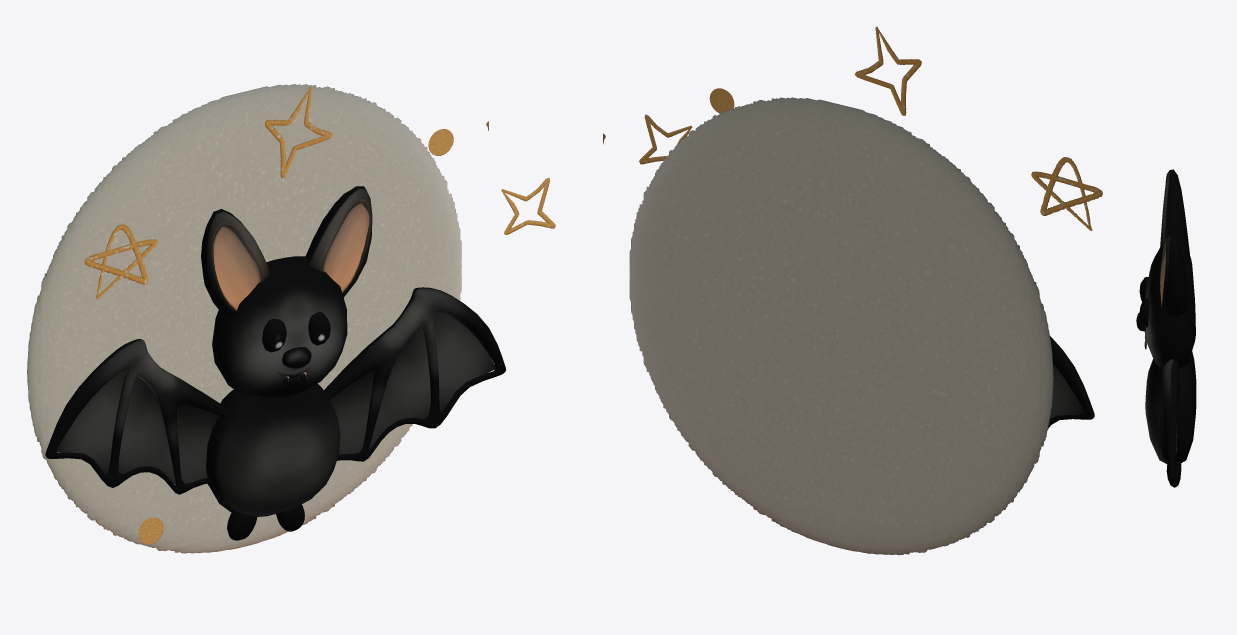
File: morcego.glb
The picture shows the model from 3 angles, left to right: view 1: azimuth 30°, elevation 25°; view 2: azimuth 150°, elevation 25°; view 3: azimuth 270°, elevation 25°; orthographic projection. The views are drawn at different scales.
Visible parts, largest first — view 1: Plane.001, corpo, Cube.014, Cube.005, Plane, Plane.013, Plane.024; view 2: Plane.001, Cube.005, Plane, Plane.013; view 3: corpo, Cube.014.
Boxes of the visible parts, x1,y1,x2,y2 form: Plane.001: [27, 84, 488, 553]; corpo: [201, 186, 372, 540]; Cube.014: [324, 287, 505, 461]; Cube.005: [45, 339, 227, 494]; Plane: [84, 224, 157, 300]; Plane.013: [265, 86, 333, 177]; Plane.024: [501, 177, 555, 234]; Plane.001: [603, 97, 1053, 555]; Cube.005: [1048, 335, 1094, 428]; Plane: [1031, 157, 1102, 230]; Plane.013: [854, 27, 921, 115]; corpo: [1136, 169, 1196, 487]; Cube.014: [1162, 359, 1179, 485].
Bounding box in the file's own units: 2.98 × 2.9 × 0.5479.
Materials: 2 (2 with a texture image).
